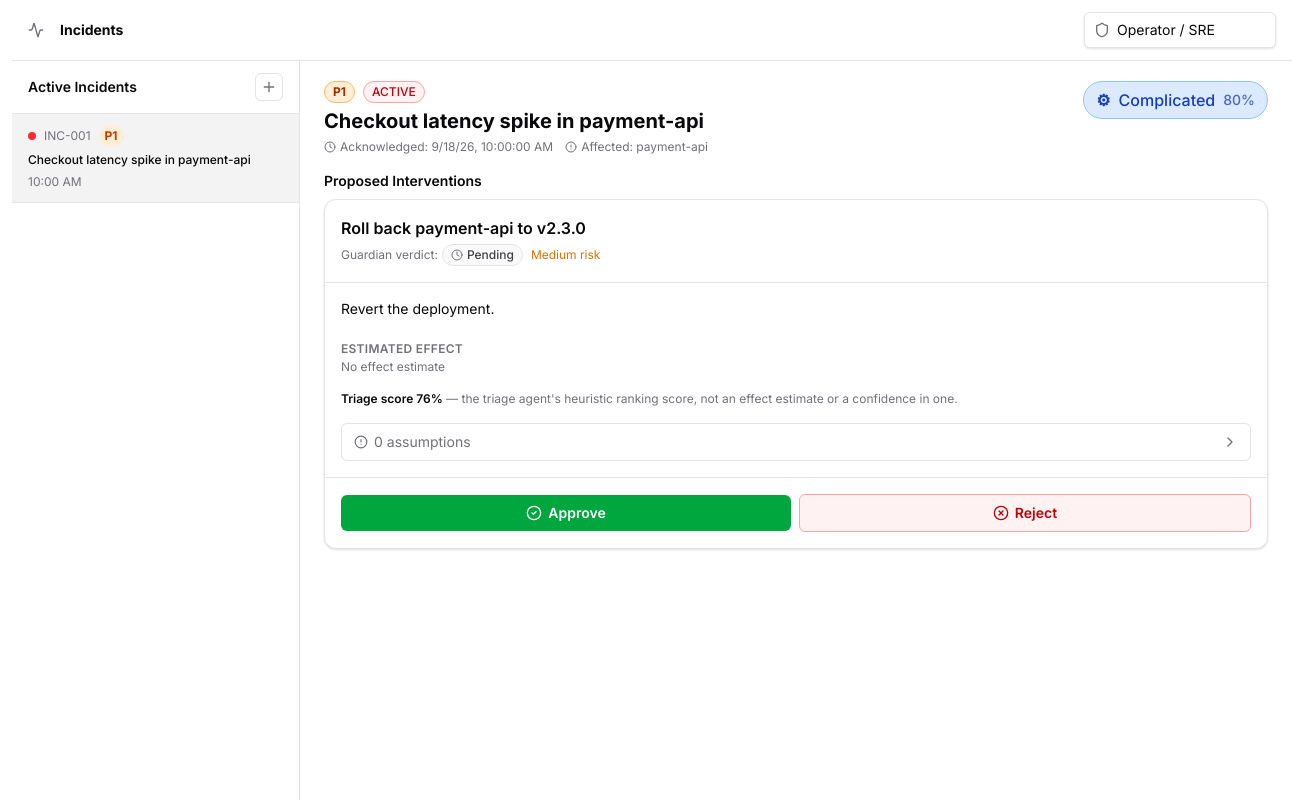
Test: IncidentsPage — intervention decisions › keeps the prior verdict and shows the error when the backend fails
The image size is (1292, 800).
Click the button with test id "approve-button": [566, 513] box [341, 495, 791, 531]
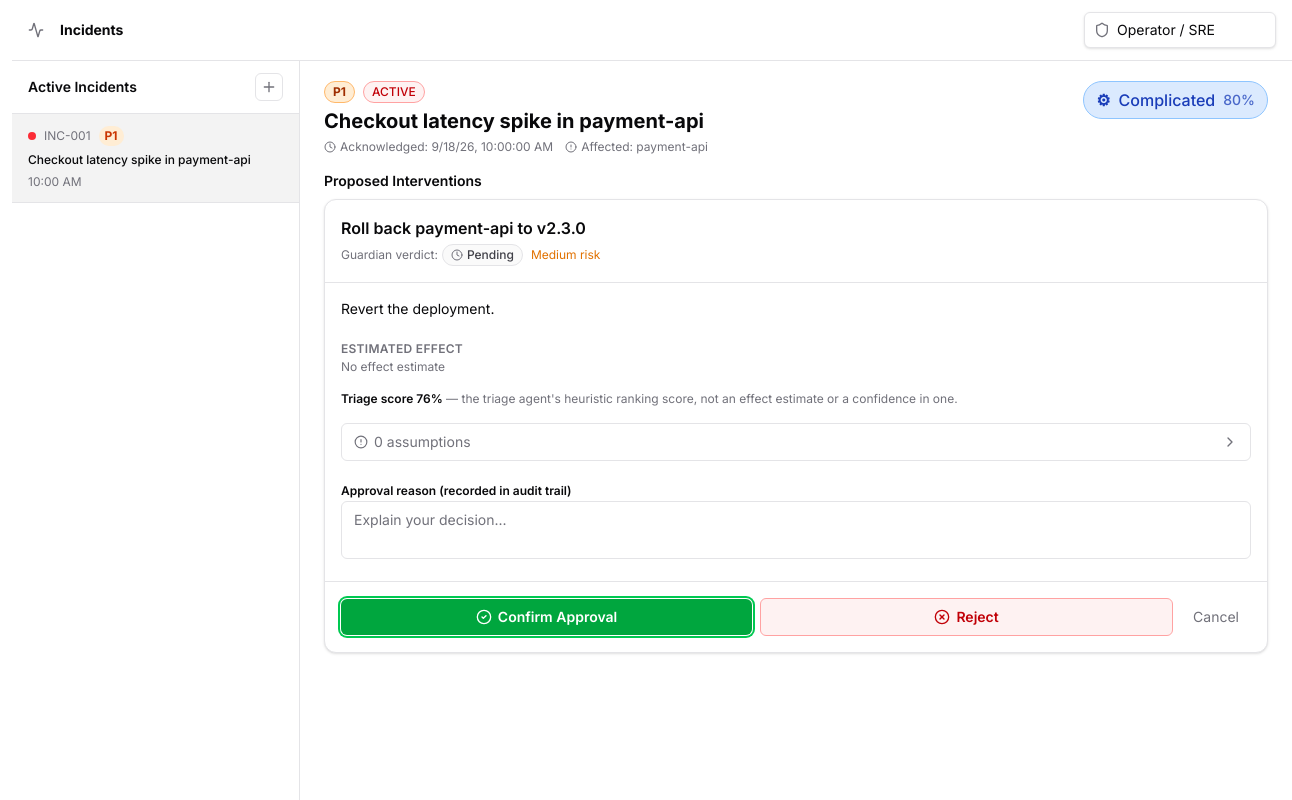
In the text box labelled "Approval reason (recorded in audit trail)": [796, 530] box [341, 501, 1251, 559], type "Safe rollback."
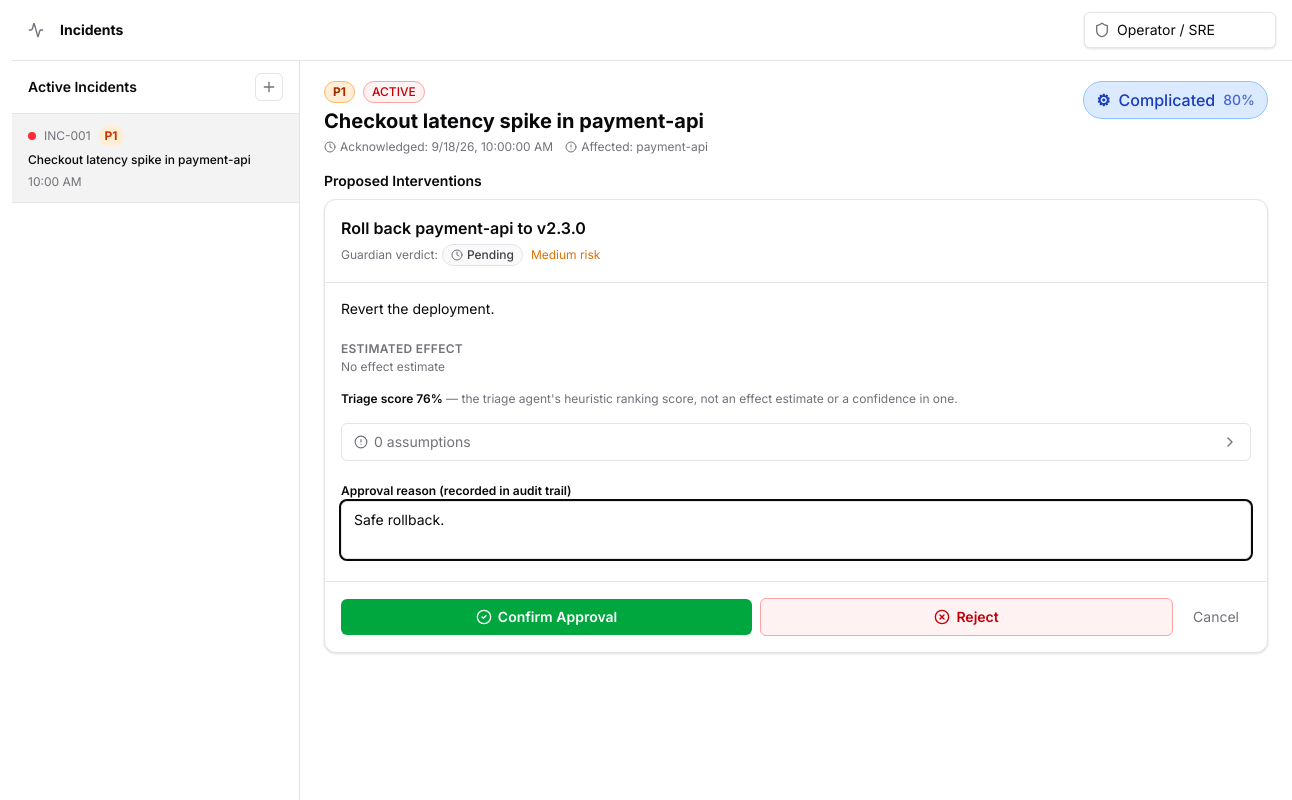
Click the button with test id "approve-button": [546, 617] box [341, 599, 752, 635]
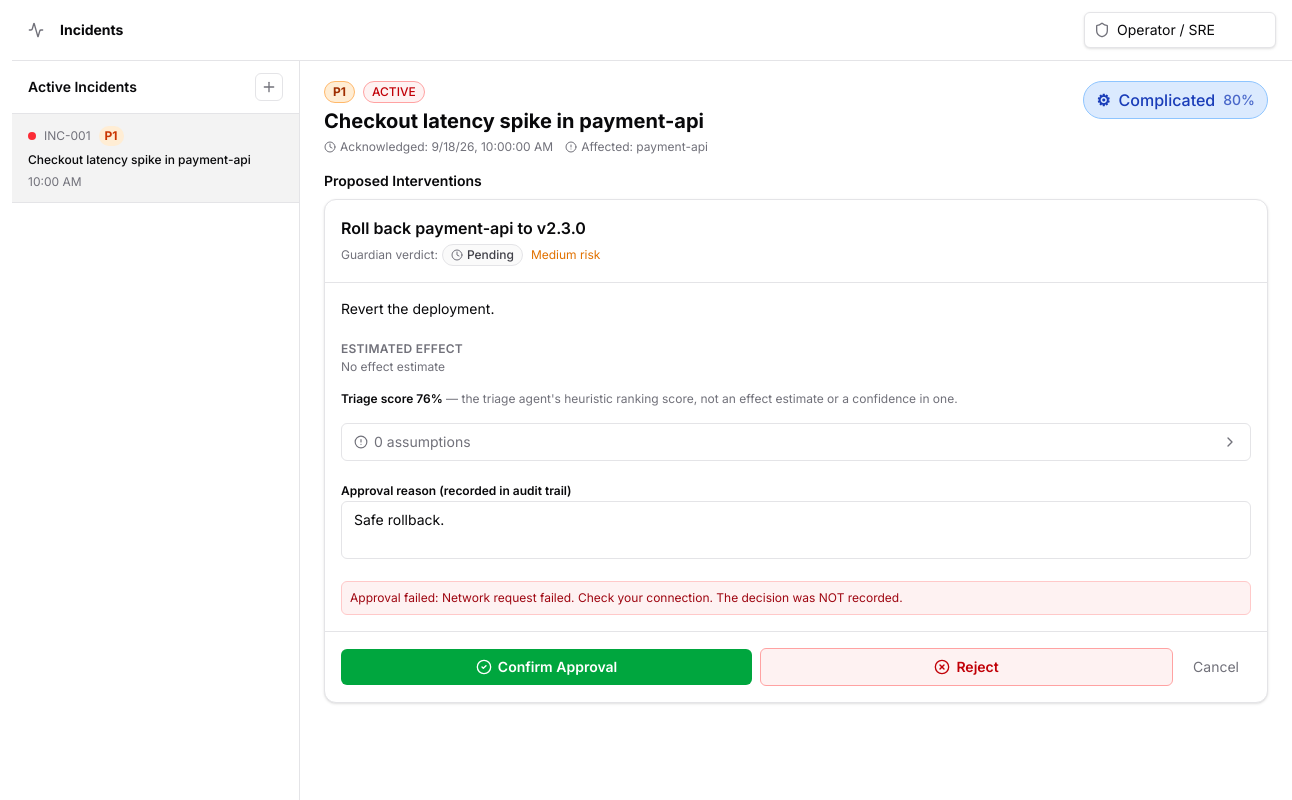
Result: the message with test id "intervention-action-error" shows "Network request failed" at [350, 590, 903, 605]
Result: the message with test id "intervention-action-error" shows "NOT recorded" at [350, 590, 903, 605]
